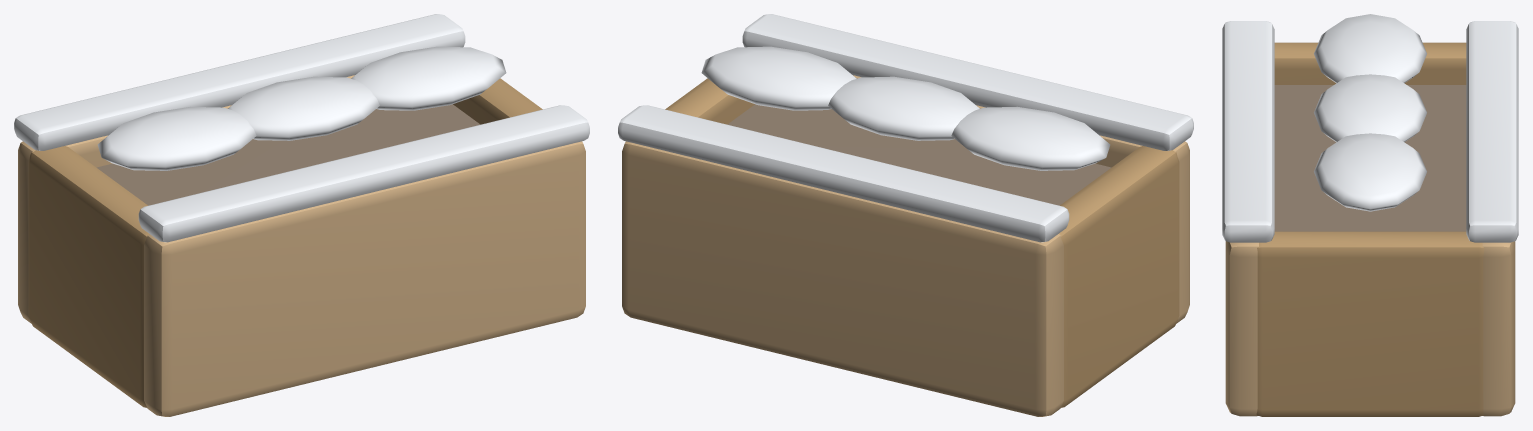
The model's file is planter_winter_v1.glb.
The picture shows the model from 3 angles, left to right: view 1: azimuth 30°, elevation 25°; view 2: azimuth 150°, elevation 25°; view 3: azimuth 270°, elevation 25°; orthographic projection.
Bounding box in the file's own units: 1.41 × 0.7 × 0.85.
